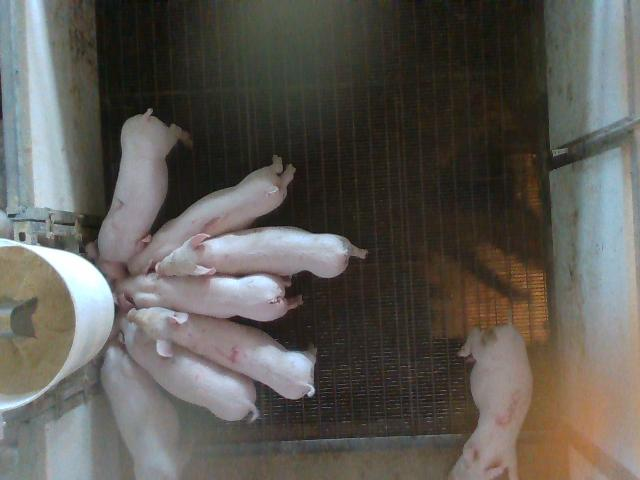pig-1: (129, 155, 296, 274)
pig-3: (449, 324, 532, 479)
pig-4: (128, 308, 316, 399)
